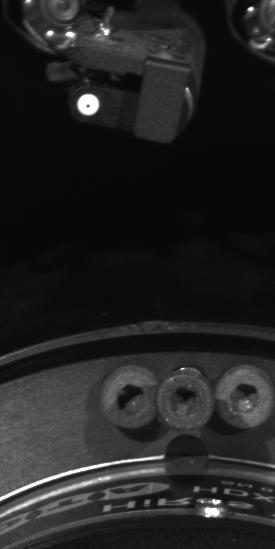fiber: (72, 87, 104, 121)
